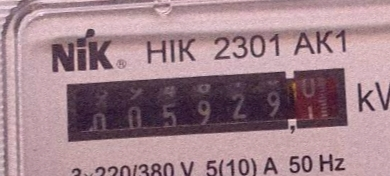0: (123, 101, 144, 130), (87, 106, 109, 130), (298, 74, 318, 98)
2: (227, 87, 248, 122)
5: (158, 98, 178, 127)
9: (262, 85, 284, 119), (191, 94, 214, 126), (90, 86, 109, 105)
screen: (56, 54, 356, 157)
